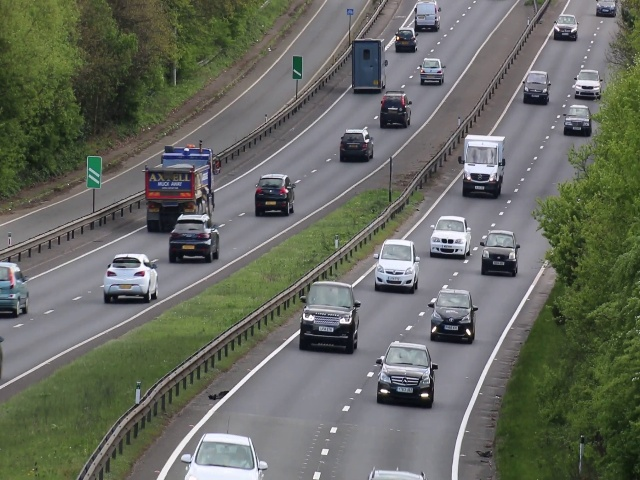car: (144, 142, 214, 228), (300, 278, 359, 355), (184, 430, 268, 480), (377, 340, 436, 410), (101, 252, 160, 303), (168, 213, 221, 263), (462, 135, 503, 199), (430, 287, 475, 345), (374, 237, 419, 294), (352, 39, 387, 96), (481, 229, 519, 280), (430, 211, 471, 258), (1, 260, 32, 317), (254, 174, 293, 217), (339, 127, 375, 163), (377, 93, 413, 127), (521, 67, 551, 106), (561, 102, 593, 135), (411, 1, 443, 31), (572, 68, 601, 100), (553, 10, 580, 42), (419, 56, 445, 85), (394, 27, 418, 54), (594, 1, 617, 17)
